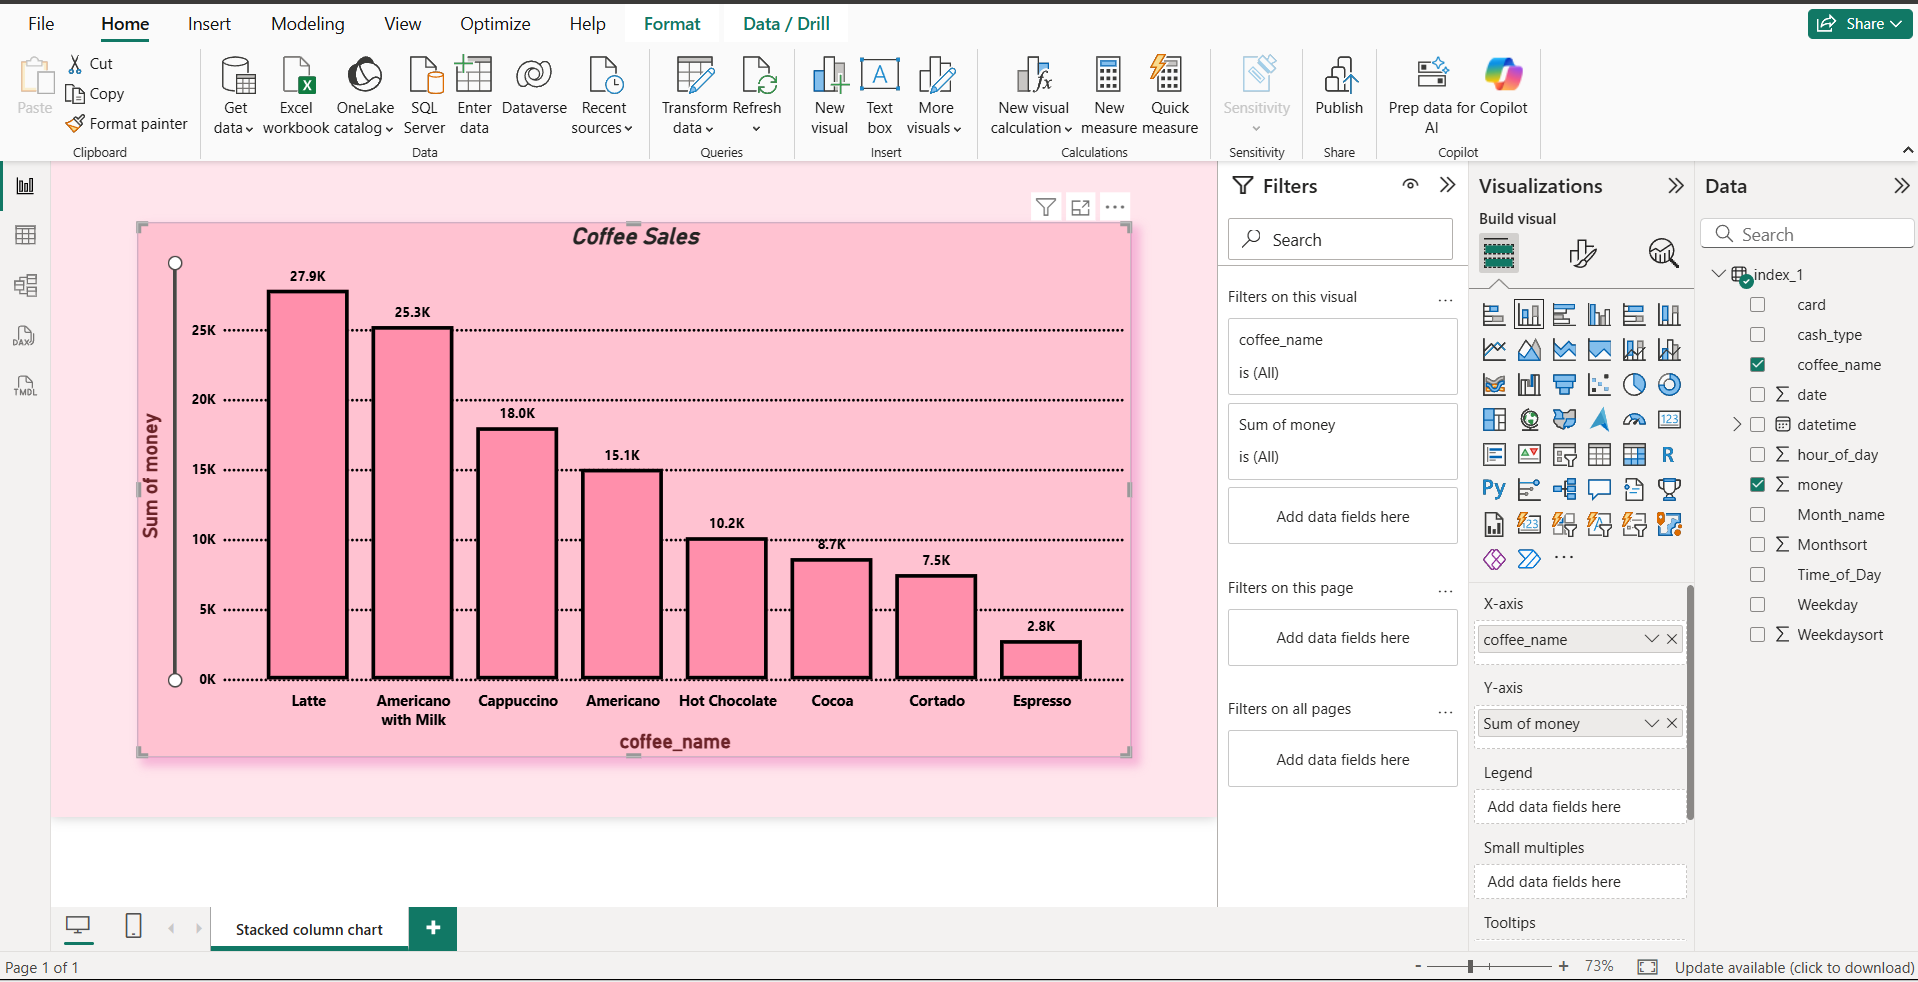

The dashboard page shown, as its layout file describes it:
{"tool":"powerbi","page":{"name":"Stacked column chart","canvas":[1280,720],"ordinal":0},"visuals":[{"type":"columnChart","title":"Coffee Sales","fields":{"Category":["index_1.coffee_name"],"Y":["Sum(index_1.money)"]},"box":[94.7,67.2,1090.9,587.3],"z":0}]}

Visuals, with their boxes on the page's 1280x720 design canvas (x1, y1, x2, y2). These are canvas units, not pixel positions in the 1918x982 screenshot, which may show the page scaled, cropped or inside an application window:
"Coffee Sales" columnChart: x1=95 y1=67 x2=1186 y2=654
